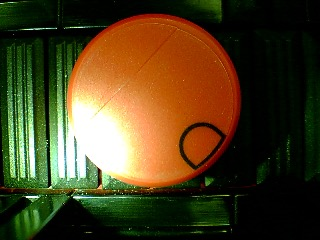MIPO1: (66, 13, 242, 187)
